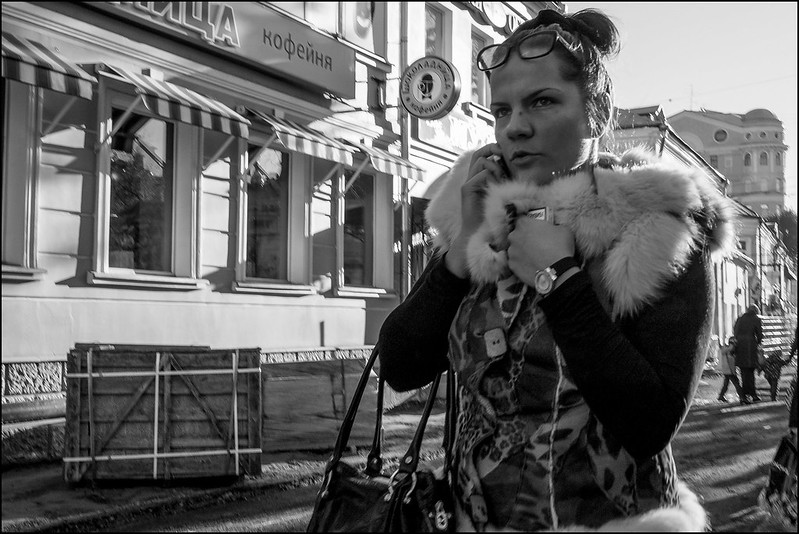phone: (481, 130, 516, 192)
